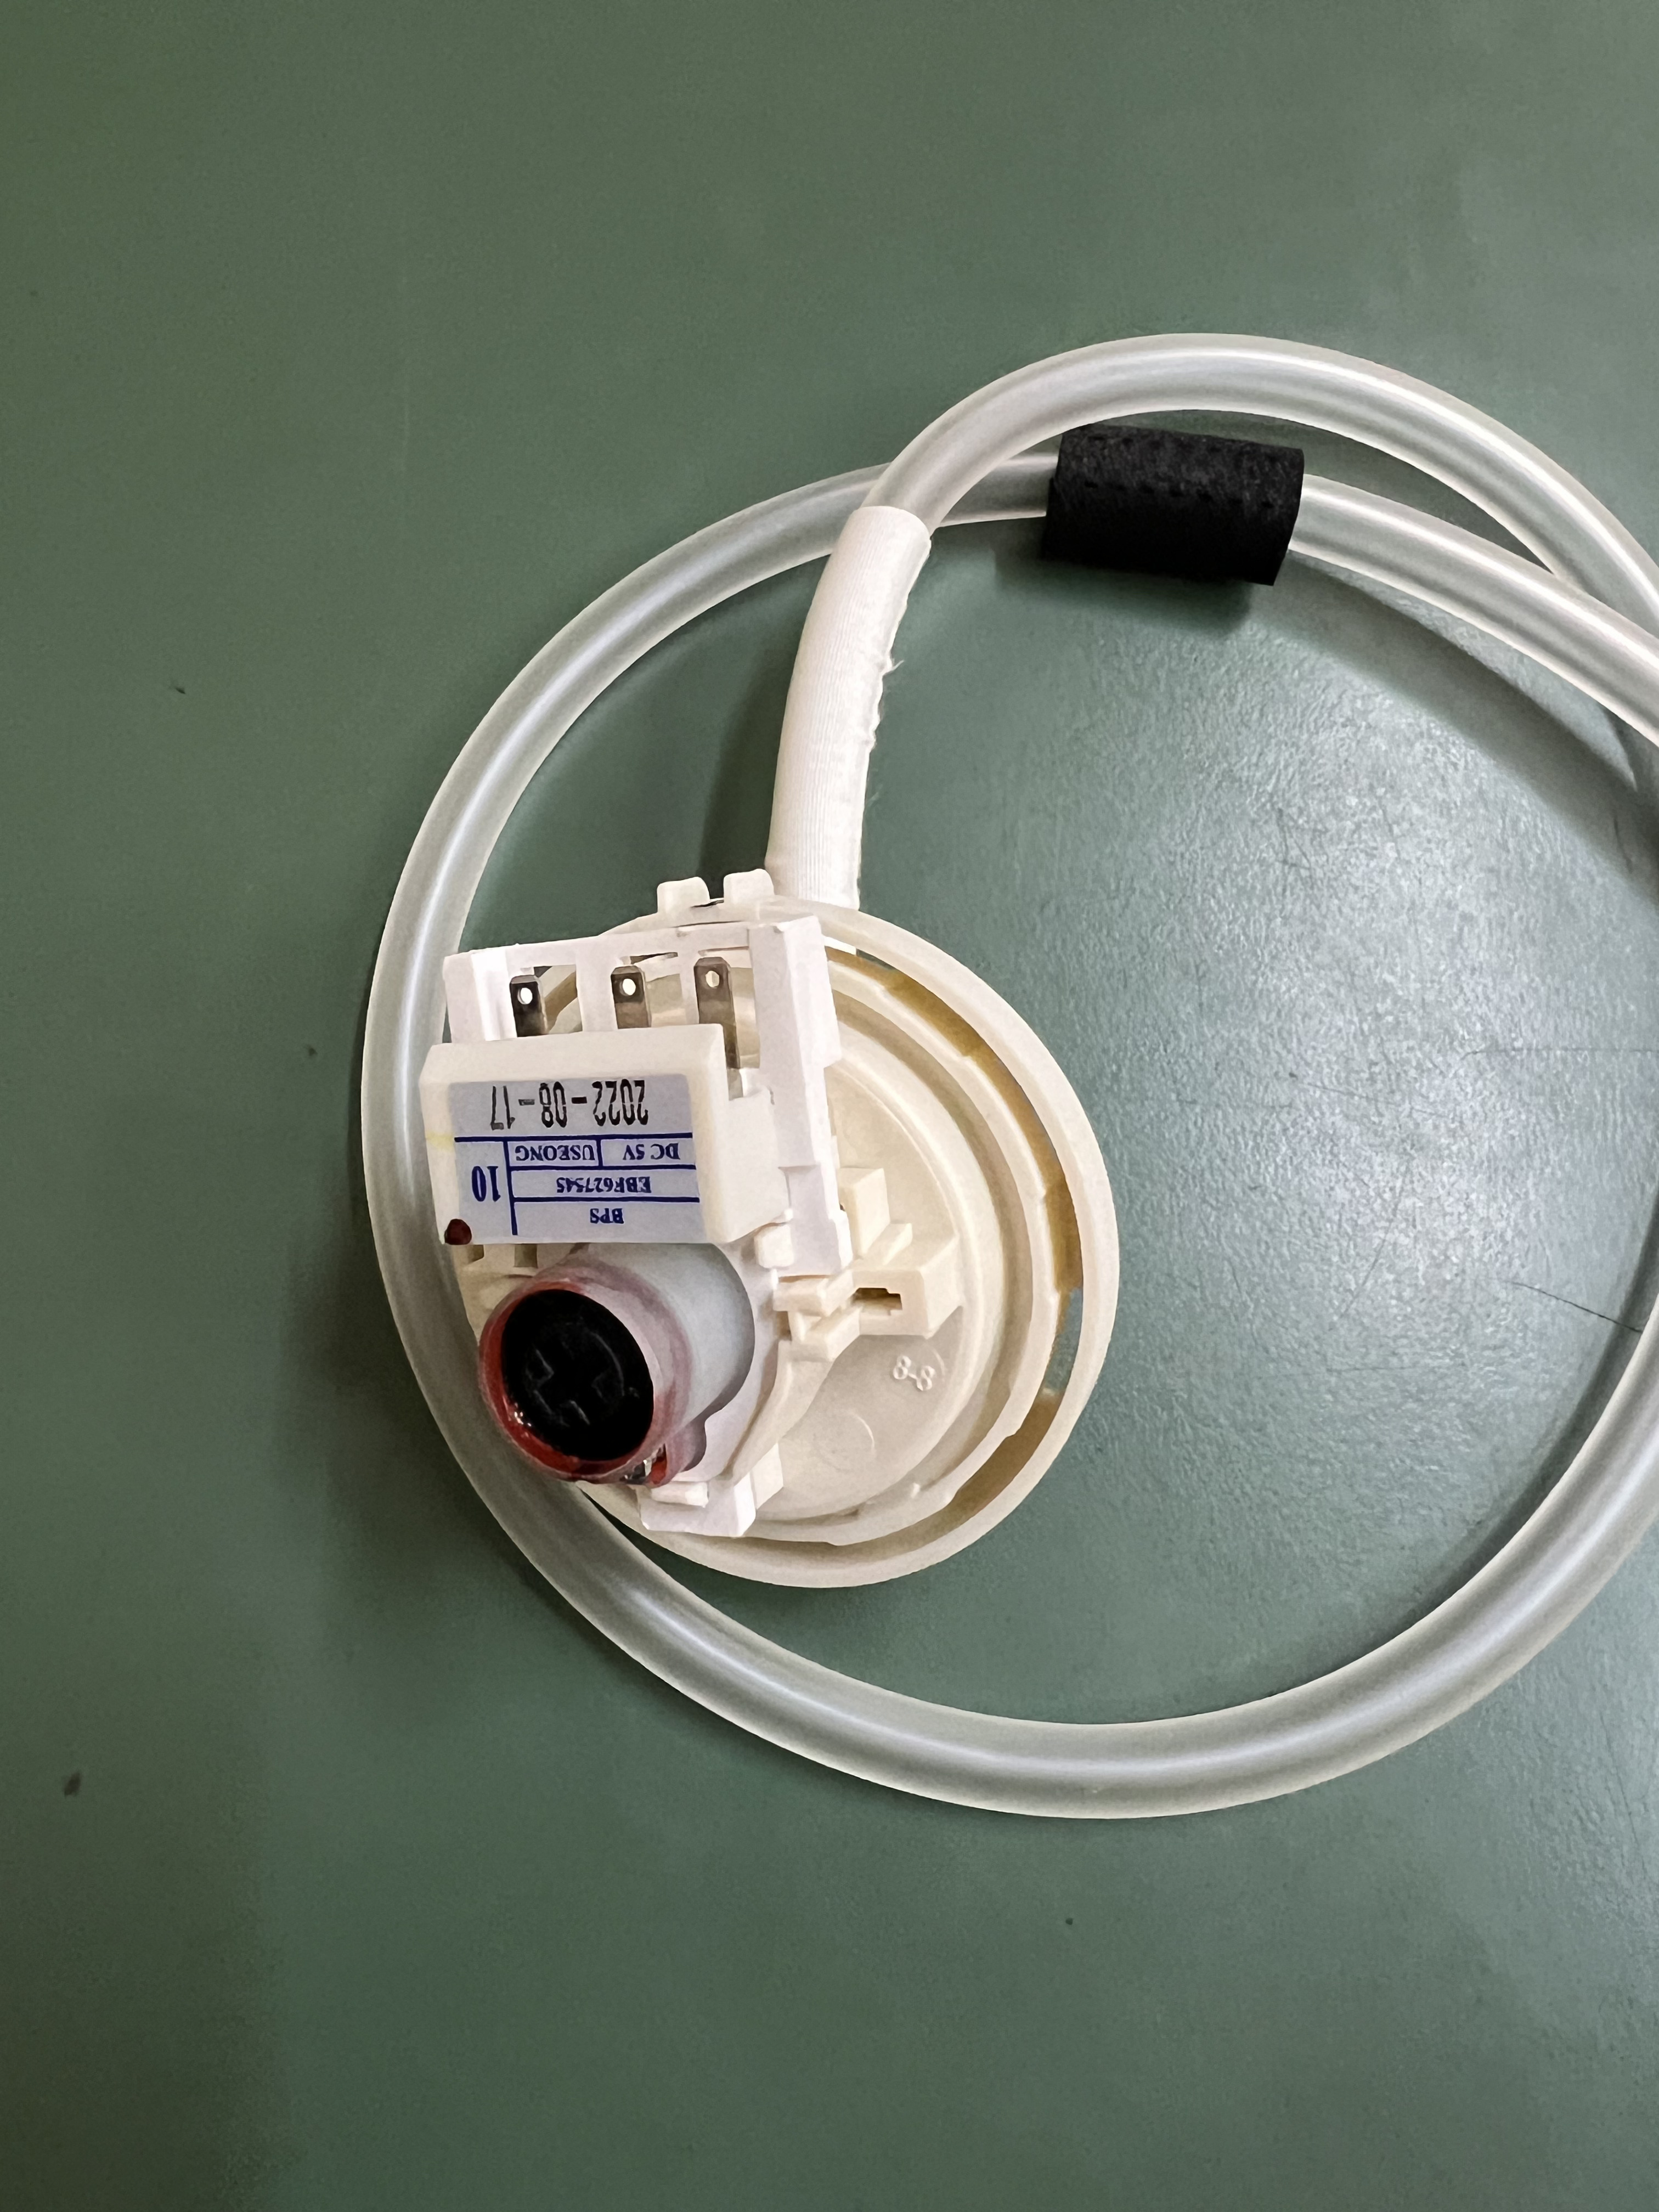pressure_sensor: (389, 900, 1117, 1601)
